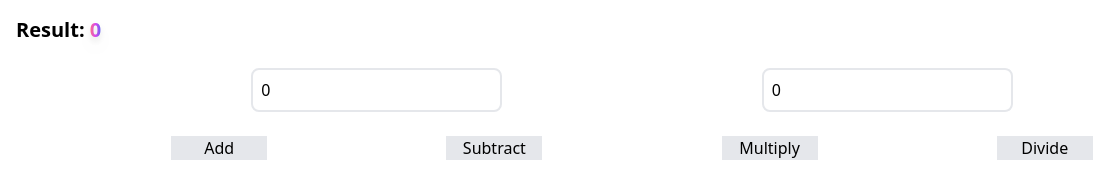
Scenario: subtracts numbers
Replace the text in the number field with test id "num1" with "8". click: (377, 90)
box: left=251, top=68, right=502, bottom=112
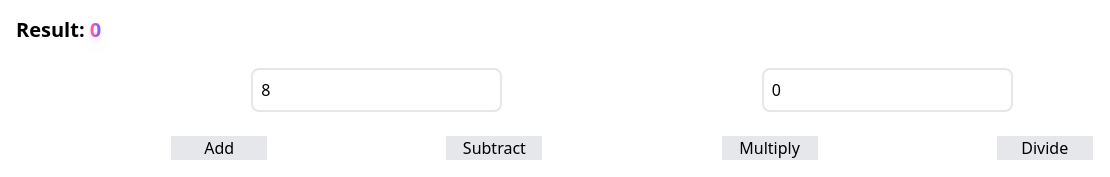
Replace the text in the number field with test id "num2" with "5". click: (887, 90)
box: left=762, top=68, right=1013, bottom=112
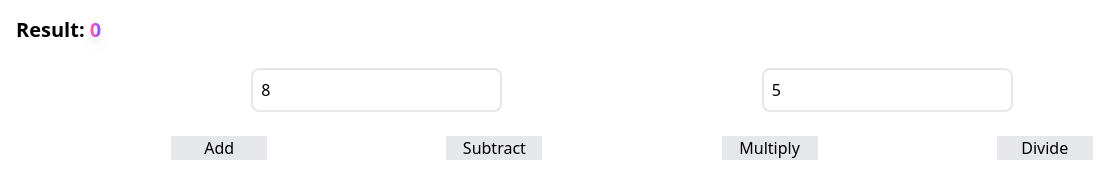
Click the button with test id "subtract". click: (494, 148)
box: left=446, top=136, right=542, bottom=160
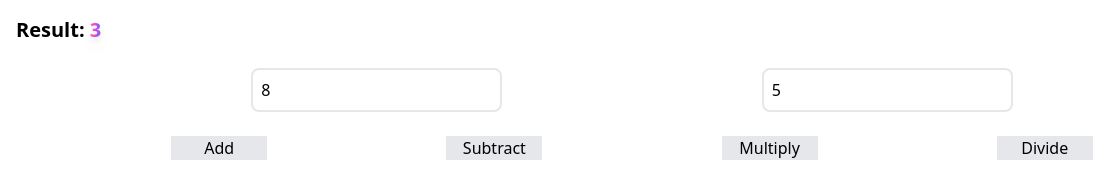
Expected: the element with test id "result" shows "3", left=16, top=16, right=101, bottom=43
